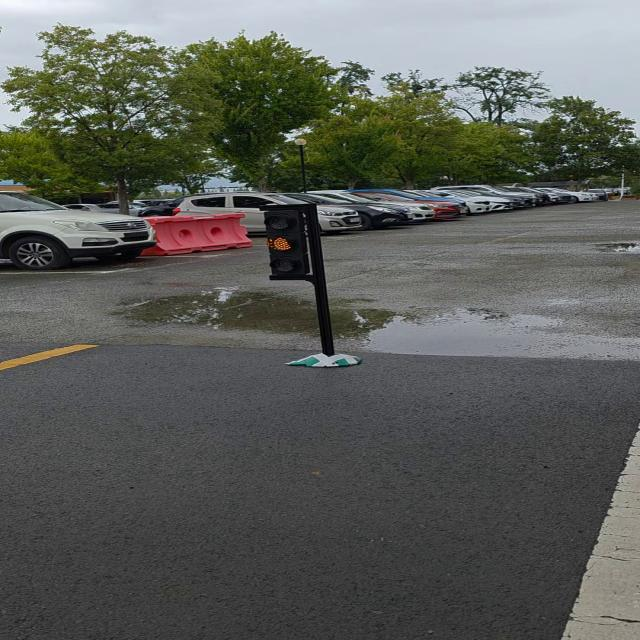yellow: (265, 209, 311, 282)
